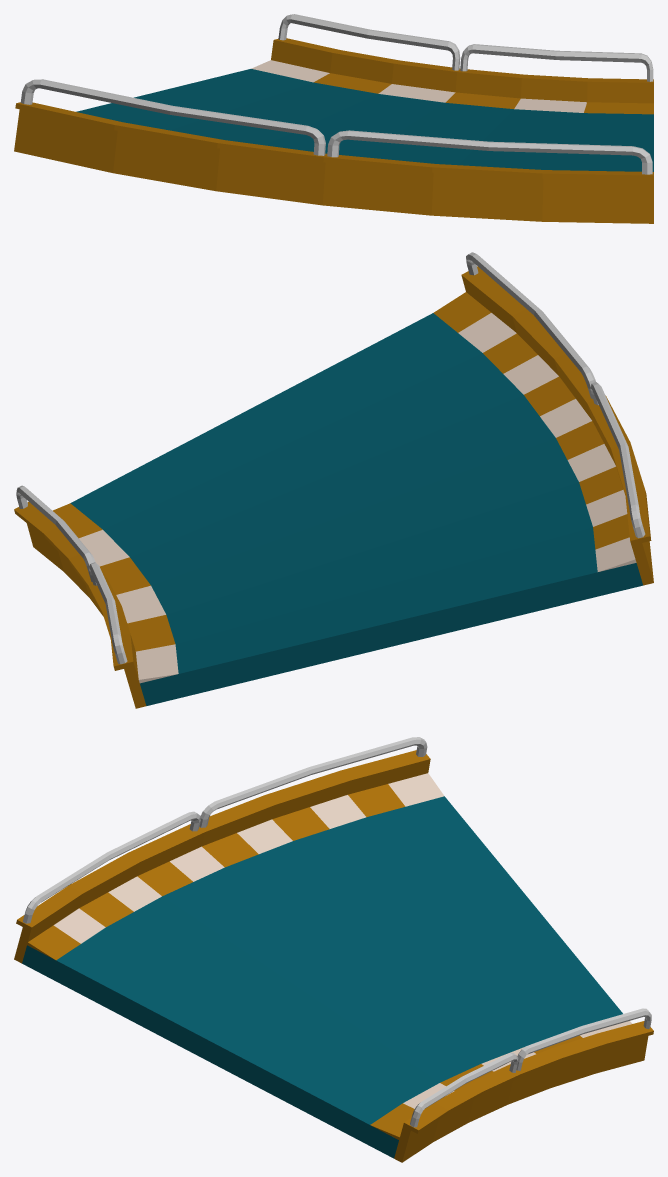
File: bankedLeft-30-15_s.FBX
The picture shows the model from 3 angles, top to bottom: view 1: azimuth 30°, elevation 25°; view 2: azimuth 150°, elevation 25°; view 3: azimuth 270°, elevation 25°; orthographic projection. The views are drawn at different scales.
Visible parts, largest first — view 1: wall_r, bankedLeft-30-15_s, wall_l, curbs_l; view 2: bankedLeft-30-15_s, curbs_r, wall_r, curbs_l, wall_l; view 3: bankedLeft-30-15_s, wall_r, curbs_r, wall_l, curbs_l.
Part boxes in pixels (x1,y1,x2,y2): wall_r: (14,79,653,223); bankedLeft-30-15_s: (76,69,653,171); wall_l: (271,14,653,103); curbs_l: (251,60,653,114); bankedLeft-30-15_s: (70,313,643,705); curbs_r: (433,292,636,571); wall_r: (461,252,653,585); curbs_l: (53,503,178,683); wall_l: (14,485,146,708); bankedLeft-30-15_s: (22,796,622,1158); wall_r: (14,737,430,963); curbs_r: (27,773,444,960); wall_l: (394,1008,653,1162); curbs_l: (370,1021,632,1139).
Size of what is drawn, in the model's own units: 276 by 80.3 by 276.
